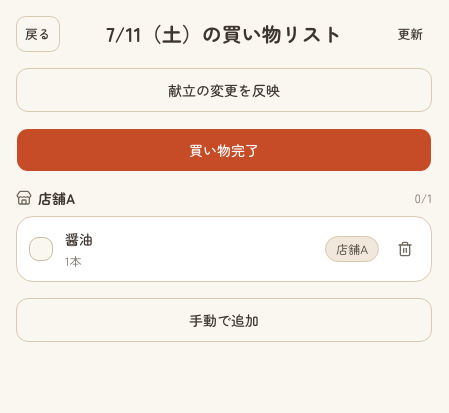
Test: ShoppingListClient（献立の変更を反映） › SY-02: 追加が無いとき「変更はありませんでした」を表示する
Step 1. Click the button "献立の変更を反映" → (224, 90), box x1=16 y1=68 x2=432 y2=112
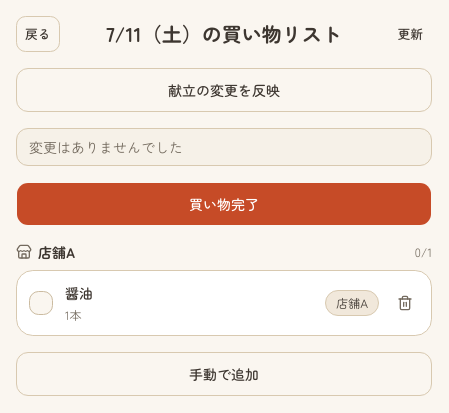
Expected: the text "変更はありませんでした" is shown, x1=16 y1=128 x2=432 y2=166
